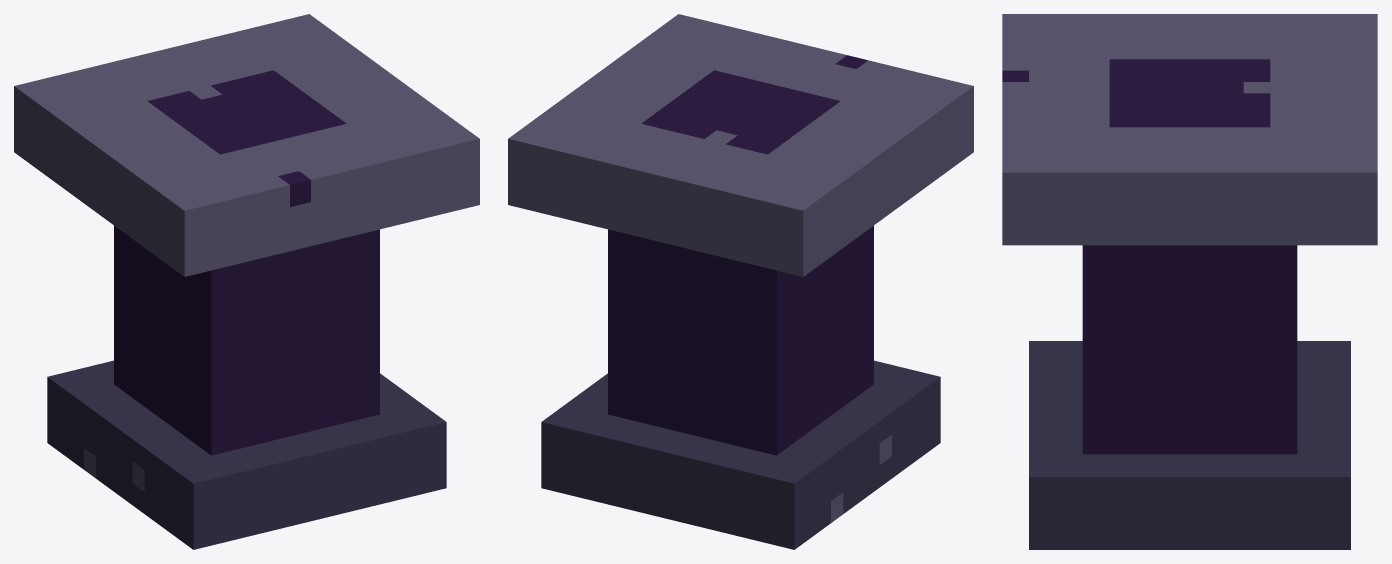
The model's file is altar.obj.
The picture shows the model from 3 angles, left to right: view 1: azimuth 30°, elevation 25°; view 2: azimuth 150°, elevation 25°; view 3: azimuth 270°, elevation 25°; orthographic projection. The views are drawn at different scales.
Parts seen in each view (by area): view 1: altar; view 2: altar; view 3: altar.
Part boxes in pixels (box(x1,y1,x2,y2)): altar: box(14, 14, 479, 549); altar: box(508, 14, 973, 549); altar: box(1002, 14, 1377, 549).
Bounding box in the file's own units: 0.875 × 1 × 0.875.
1 material, 1 textured.
